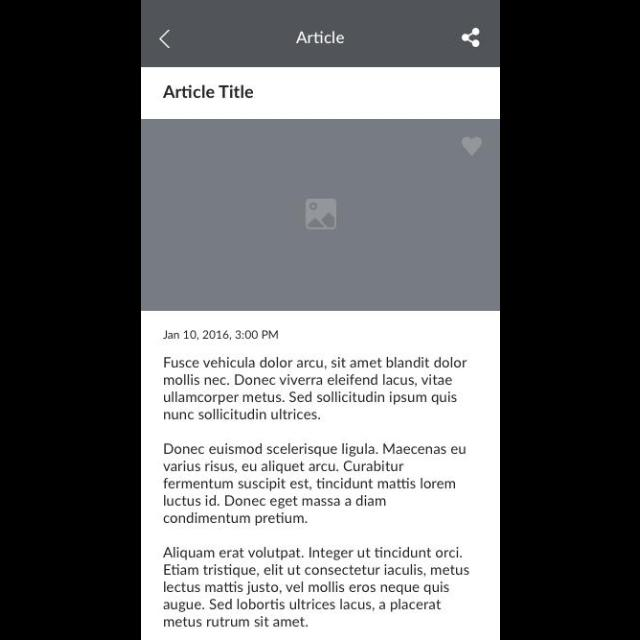icon: (461, 137, 483, 157), (461, 28, 482, 48), (158, 30, 172, 50)
image: (141, 120, 499, 310)
text: (164, 443, 466, 527), (163, 546, 471, 628), (162, 356, 468, 424), (162, 85, 256, 98), (162, 330, 280, 340), (296, 31, 344, 45)
toolbar: (141, 1, 499, 67)
